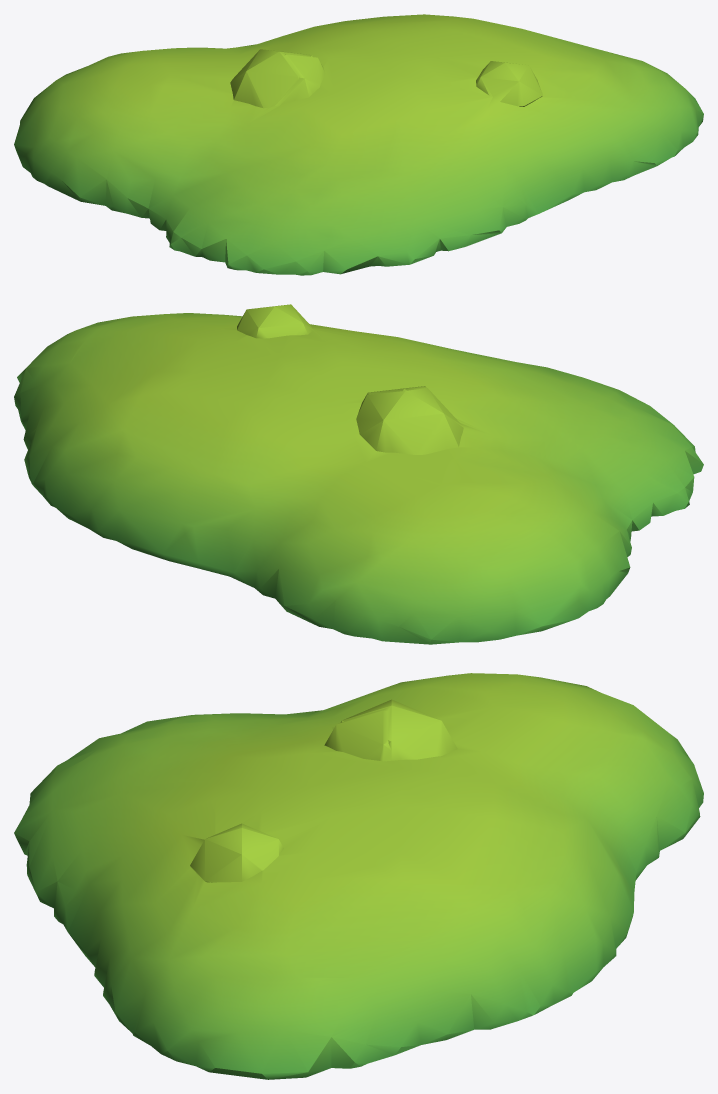
File: goo_puddle_small.glb
3 renders of one model, top to bottom at view 1: azimuth 30°, elevation 25°; view 2: azimuth 150°, elevation 25°; view 3: azimuth 270°, elevation 25°, orthographic. The views are drawn at different scales.
Visible parts, largest first — view 1: goo_puddle_small; view 2: goo_puddle_small; view 3: goo_puddle_small.
Boxes of the visible parts, x1=… form: goo_puddle_small: x1=14, y1=14, x2=703, y2=275; goo_puddle_small: x1=14, y1=304, x2=703, y2=644; goo_puddle_small: x1=14, y1=673, x2=703, y2=1079.
Size of the model in its own units: 0.9515 by 0.1675 by 0.7533.
1 material, 1 textured.
